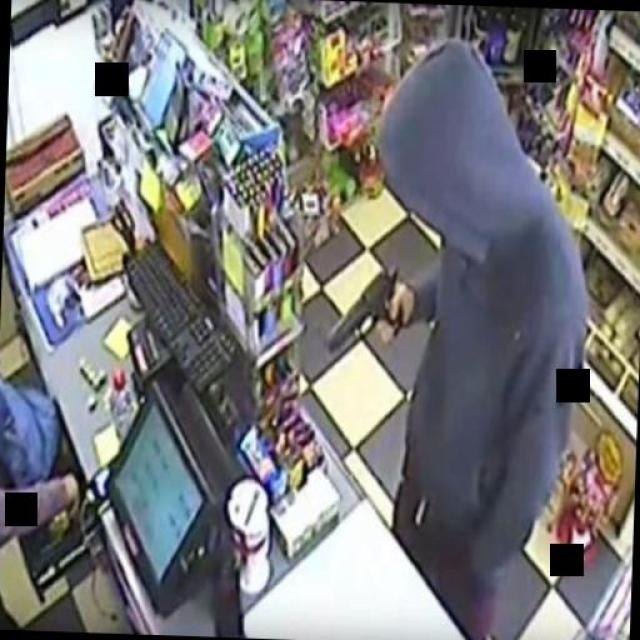gun: (325, 258, 405, 360)
